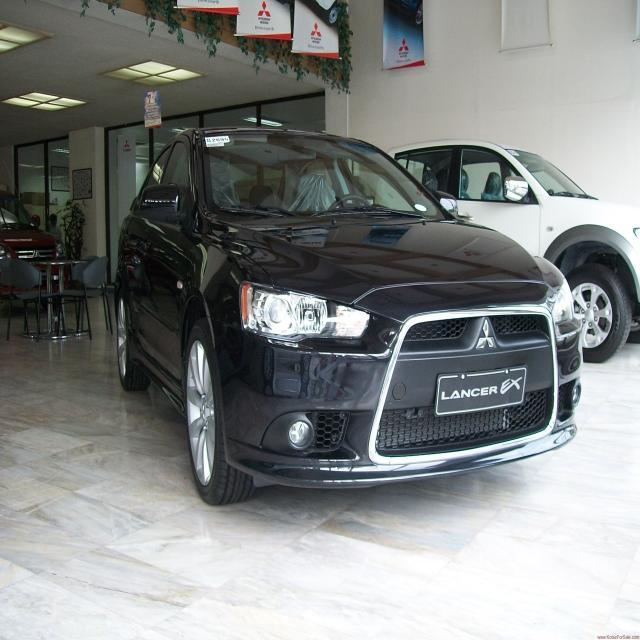car: (110, 137, 606, 514), (389, 134, 640, 357), (0, 186, 71, 302)
